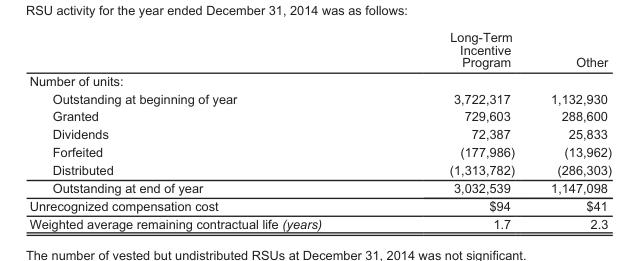table: (28, 29, 611, 230)
table column: (28, 29, 384, 230), (384, 29, 532, 230), (532, 29, 611, 230)
table column header: (28, 29, 611, 71)
table projected row header: (28, 71, 611, 89)
table row: (28, 29, 611, 71), (28, 71, 611, 89), (28, 89, 611, 107), (28, 124, 611, 142), (28, 142, 611, 160), (28, 160, 611, 178), (28, 178, 611, 196), (28, 196, 611, 214), (28, 107, 611, 124), (28, 214, 611, 230)
